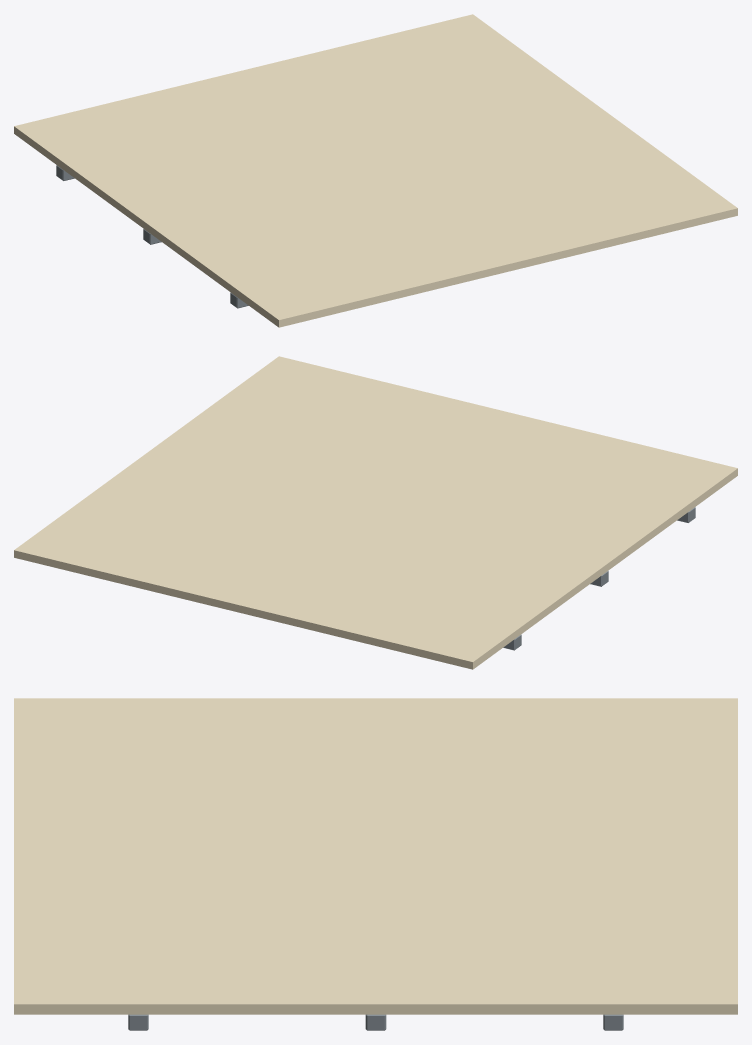
File: Kit_Ceiling.fbx
3 views of the same model, one above another, from view 1: azimuth 30°, elevation 25°; view 2: azimuth 150°, elevation 25°; view 3: azimuth 270°, elevation 25° (orthographic). The views are drawn at different scales.
Visible parts, largest first — view 1: Decor; view 2: Decor; view 3: Decor.
Part boxes in pixels (bbox=[...]): Decor: bbox=[14, 14, 737, 327]; Decor: bbox=[14, 356, 737, 669]; Decor: bbox=[14, 698, 737, 1030].
Size of the model in its own units: 32 by 1.3 by 32.
